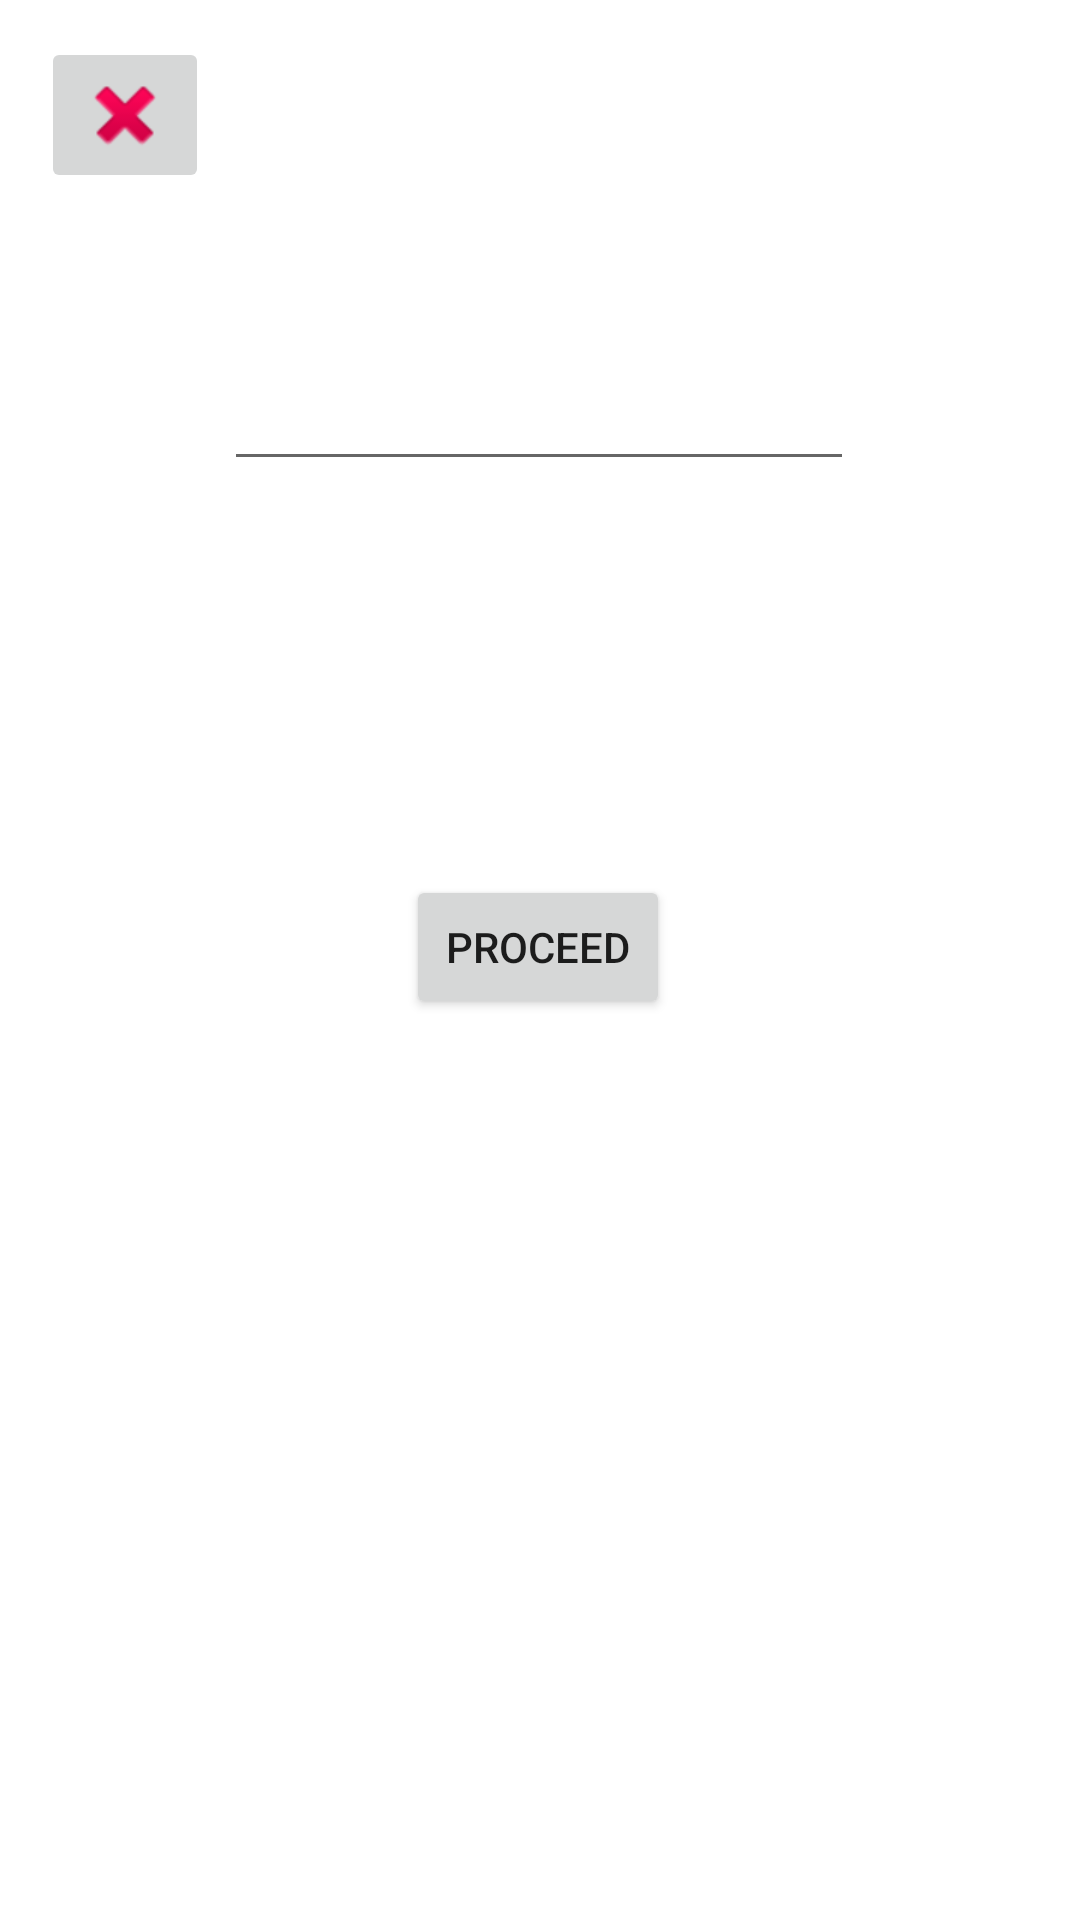

Named icons in this screenshot (1080w x 1920h) and their bounding boxes, (x1, y1, x2, y2):
delete: (53, 55, 197, 175)
